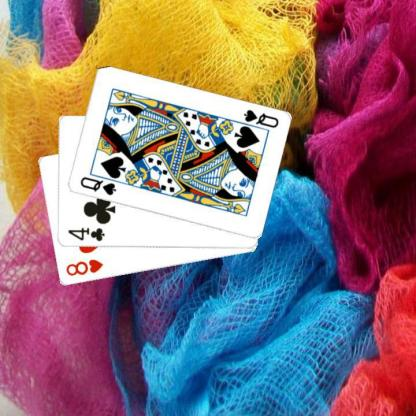4C: (65, 225, 105, 243)
8H: (63, 256, 104, 278)
QS: (78, 175, 118, 197), (240, 107, 280, 129)
